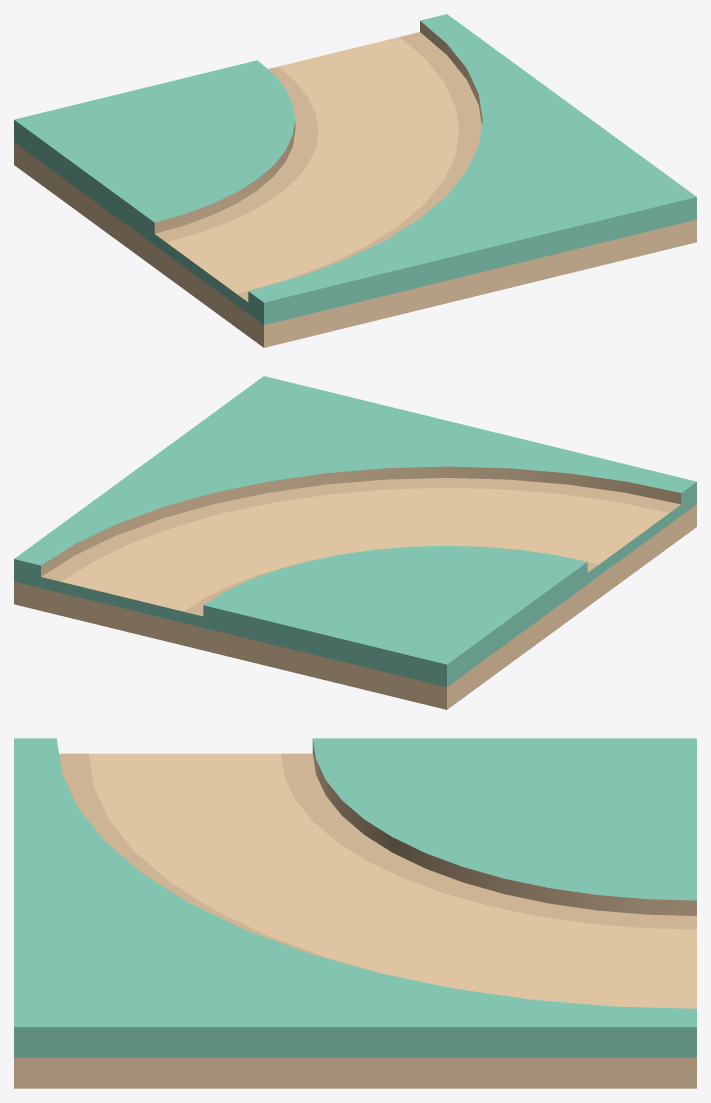
File: tile_cornerLarge.glb
3 views of the same model, one above another, from view 1: azimuth 30°, elevation 25°; view 2: azimuth 150°, elevation 25°; view 3: azimuth 270°, elevation 25° (orthographic). The views are drawn at different scales.
Parts seen in each view (by area): view 1: tile_cornerLarge; view 2: tile_cornerLarge; view 3: tile_cornerLarge.
Boxes of the visible parts, x1=… form: tile_cornerLarge: x1=14, y1=14, x2=696, y2=347; tile_cornerLarge: x1=14, y1=376, x2=696, y2=709; tile_cornerLarge: x1=14, y1=738, x2=696, y2=1088.
Bounding box in the file's own units: 2 × 0.2 × 2.
